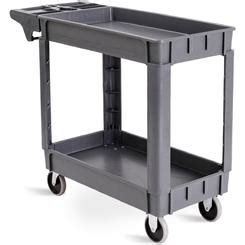Carts: (9, 1, 235, 241)
